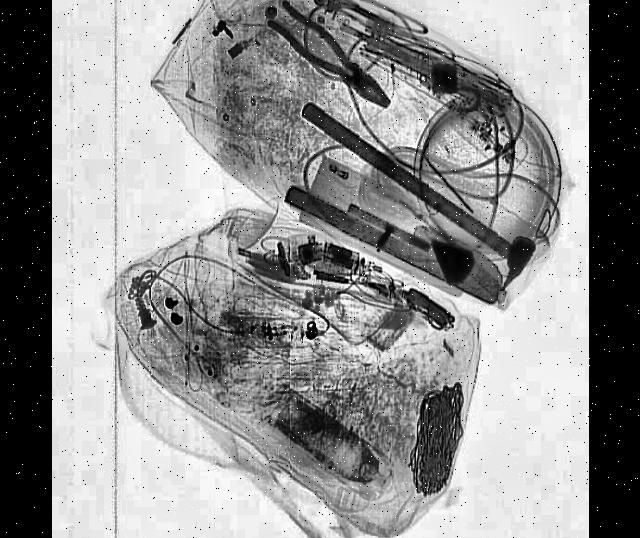Pliers: (263, 0, 397, 123)
